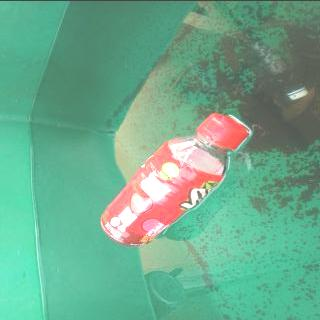bottle: (99, 111, 254, 247)
